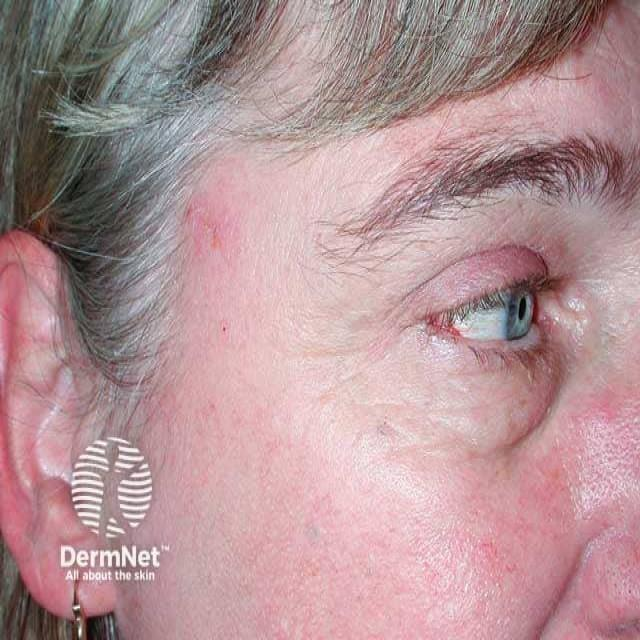Eczema: (172, 197, 513, 621)
